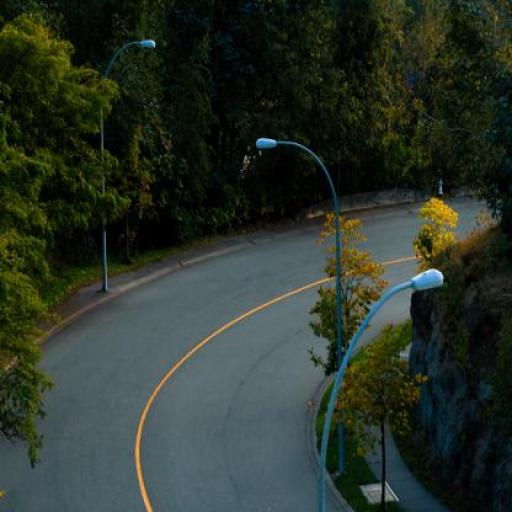street light: (316, 270, 448, 510), (256, 136, 346, 478), (102, 38, 157, 291)
